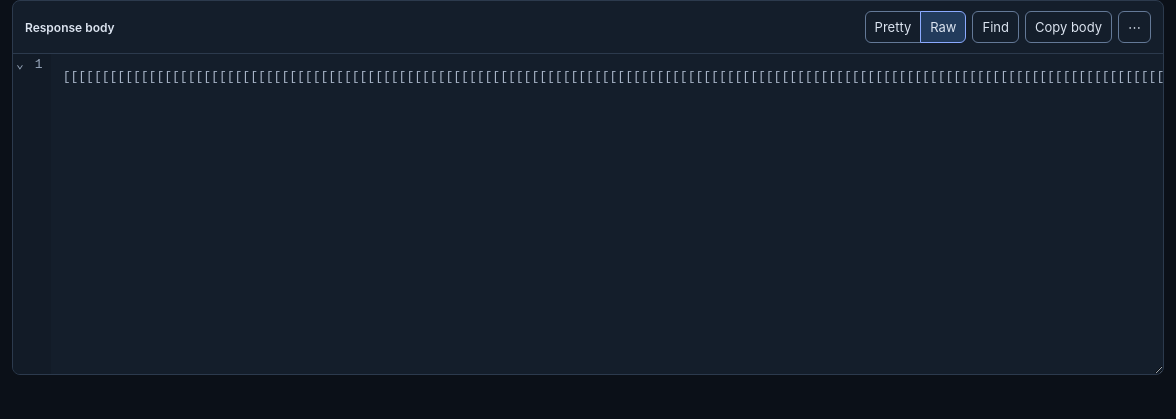
Test: keeps small but deeply nested sources raw when whitespace expansion exceeds the preview budget
Click the button "Pretty".
click(893, 27)  # box [865, 11, 921, 43]
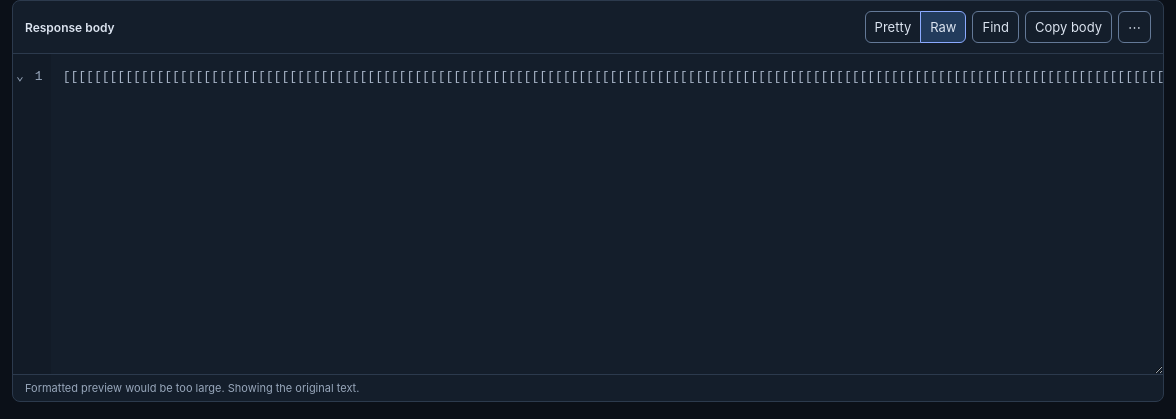
Now the message "Formatted preview would be too large. Showing the original text." is shown, box [13, 374, 1163, 401]
